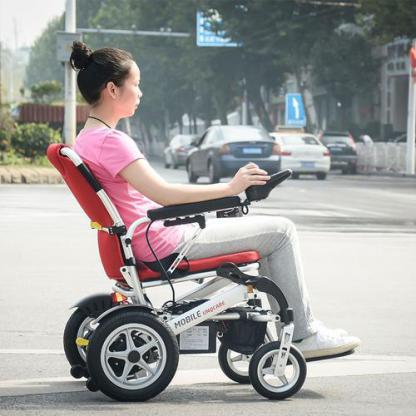wheelchair: (52, 41, 359, 402)
